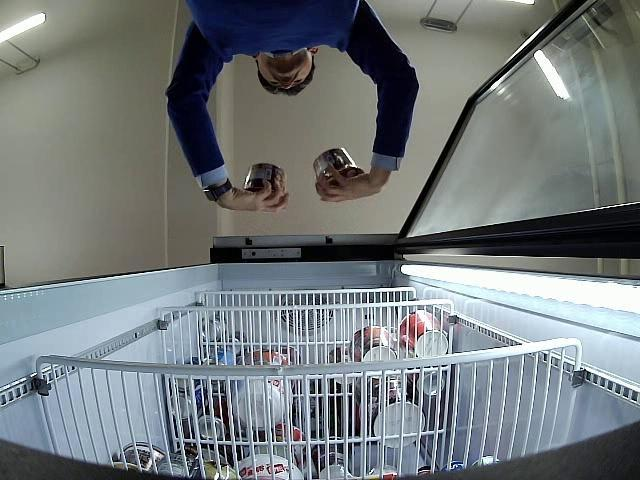05_nuguri_L: (314, 147, 364, 184), (243, 164, 286, 192)
